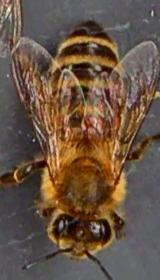varroa_mite: (80, 112, 104, 136)
